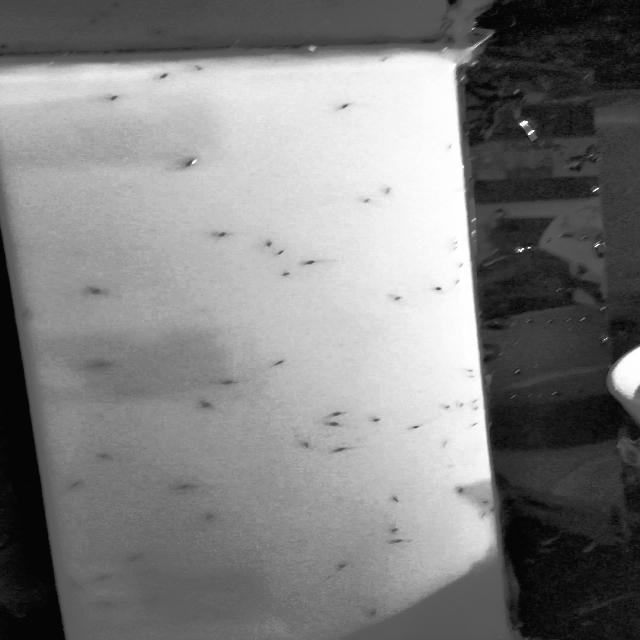shrimp: (150, 71, 177, 84), (204, 230, 229, 244), (321, 447, 354, 457), (459, 421, 484, 434), (315, 420, 347, 430), (178, 156, 202, 168), (375, 184, 398, 196), (141, 593, 161, 606), (326, 410, 354, 419), (328, 104, 350, 115), (299, 442, 323, 452), (265, 359, 288, 369), (270, 246, 293, 256), (460, 364, 480, 375), (383, 533, 407, 542), (259, 237, 276, 249), (88, 286, 108, 296), (276, 271, 294, 282), (369, 415, 393, 423), (107, 94, 126, 104), (125, 552, 146, 561), (329, 562, 346, 573), (191, 61, 205, 74), (453, 399, 468, 411), (477, 494, 492, 506), (98, 599, 120, 607), (386, 497, 408, 505), (362, 608, 381, 617), (482, 503, 499, 513), (437, 440, 458, 448), (441, 401, 456, 412), (390, 294, 410, 302), (424, 284, 450, 290), (385, 527, 404, 535), (467, 396, 482, 406), (455, 484, 470, 494), (298, 258, 322, 264), (465, 404, 485, 411), (475, 515, 490, 524), (19, 310, 35, 318), (177, 485, 197, 491), (96, 452, 113, 459), (71, 478, 80, 490), (95, 361, 110, 368), (354, 199, 375, 204), (96, 574, 113, 580), (203, 401, 220, 407), (218, 378, 235, 384), (67, 582, 80, 588), (413, 423, 428, 428), (203, 514, 214, 518), (464, 374, 482, 376)
